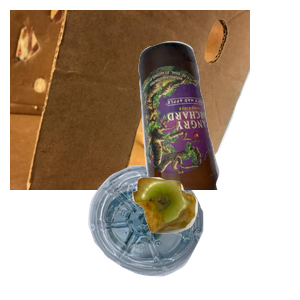cardboard: (10, 10, 250, 190)
glass: (136, 39, 300, 219)
plastic: (86, 163, 282, 300)
trash: (130, 175, 300, 300)
